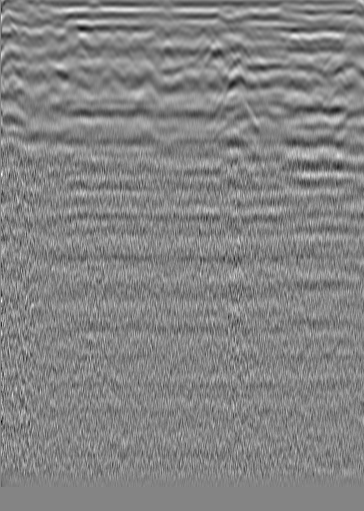가스: (207, 117, 249, 147)
상수: (322, 31, 342, 51)
오수: (38, 24, 58, 44)
우수: (166, 21, 186, 41)
